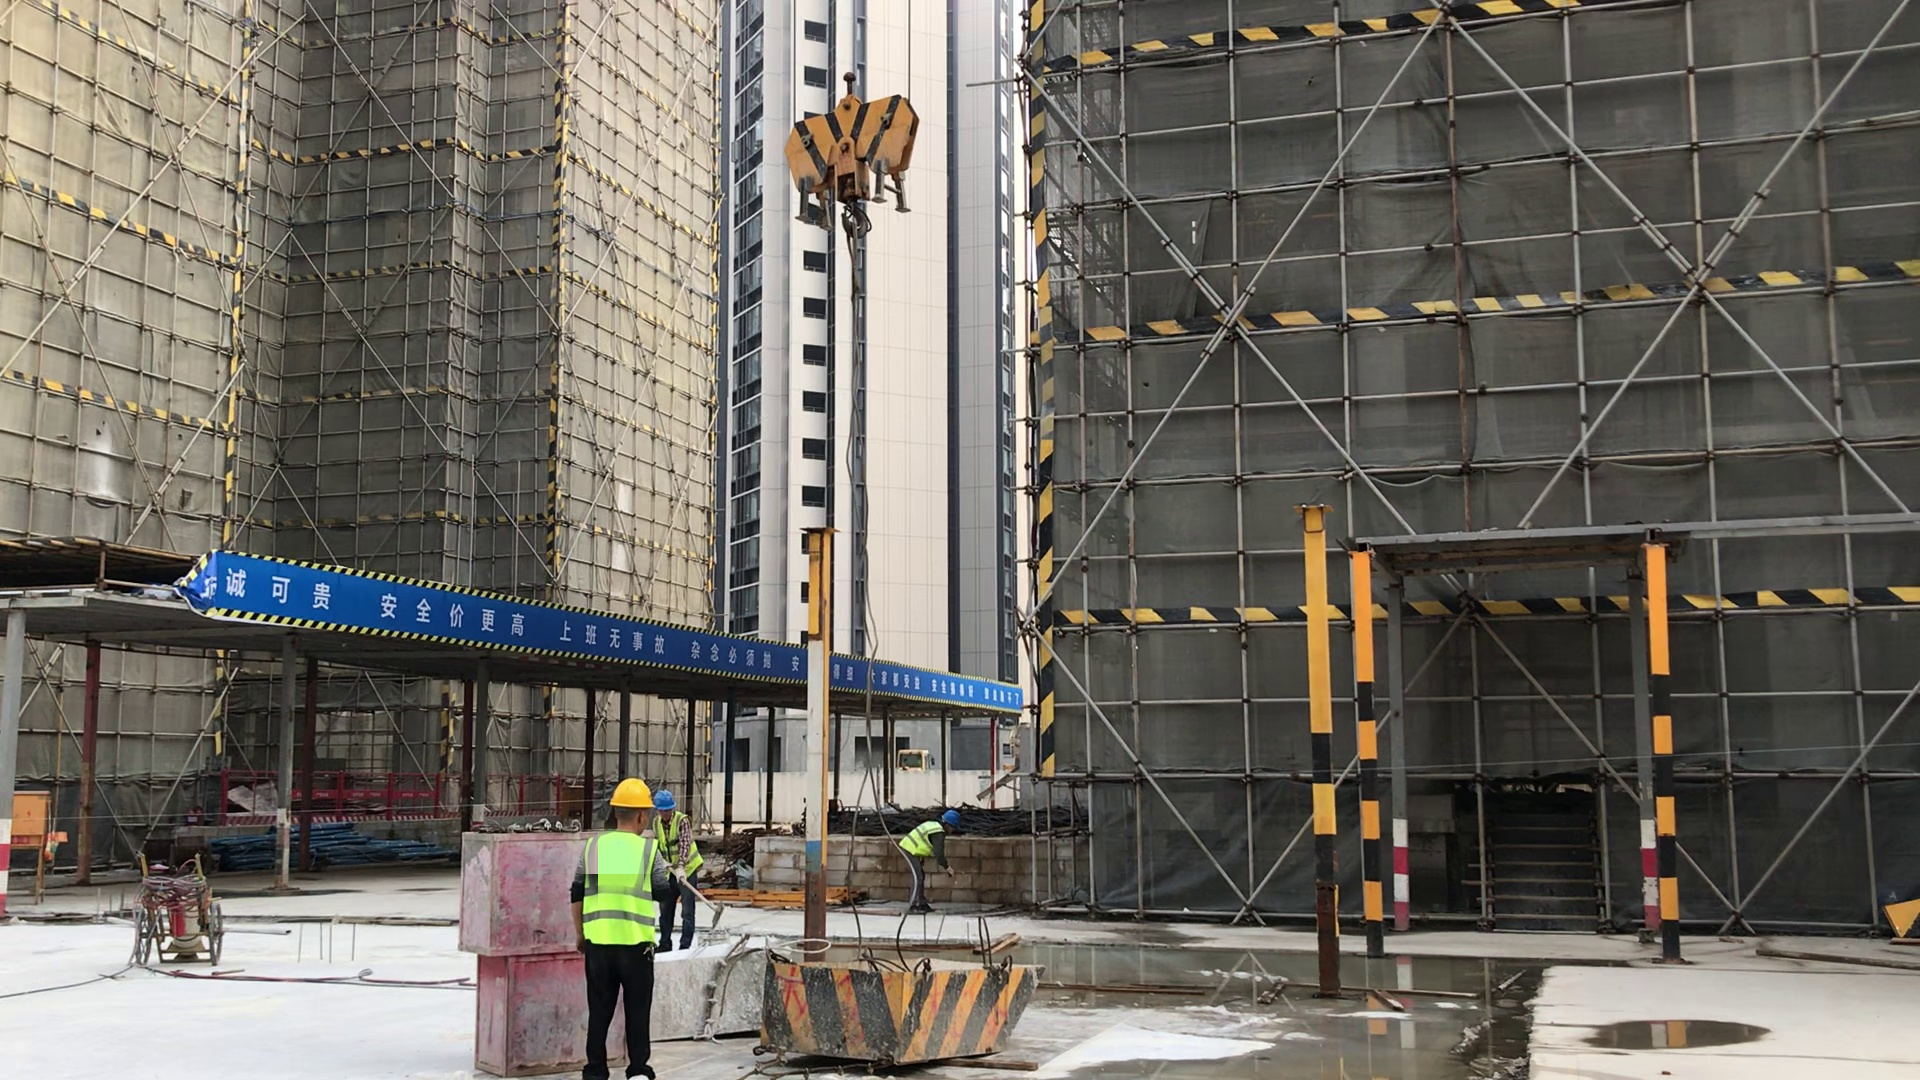fence: (225, 769, 583, 829)
handcart: (131, 843, 219, 968)
helmet: (608, 778, 656, 810), (652, 790, 675, 810), (940, 809, 958, 828)
hook: (786, 72, 916, 238)
hopper: (761, 950, 1038, 1061), (652, 935, 770, 1049)
person: (570, 778, 681, 1080), (651, 790, 703, 953), (901, 810, 960, 913)
slogan: (198, 554, 1025, 712)
vest: (583, 832, 659, 946), (654, 813, 703, 876), (900, 820, 943, 860)
